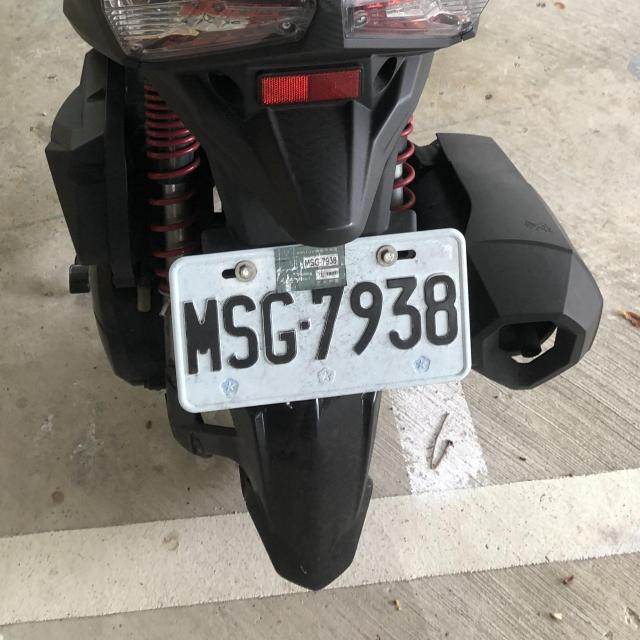W: (160, 223, 478, 413)
